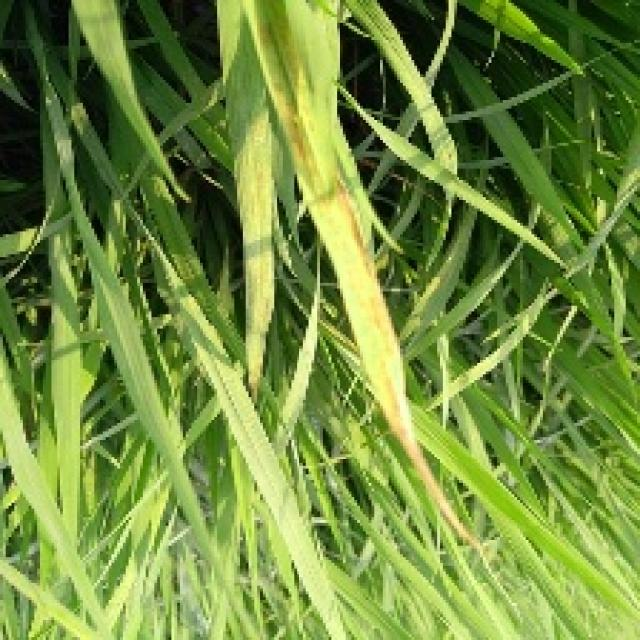Unhealthy: (368, 296, 488, 554), (271, 80, 331, 212), (335, 166, 375, 285), (251, 251, 275, 335), (281, 22, 307, 94), (252, 18, 275, 52), (249, 113, 271, 148), (251, 350, 264, 403), (254, 163, 272, 197)
